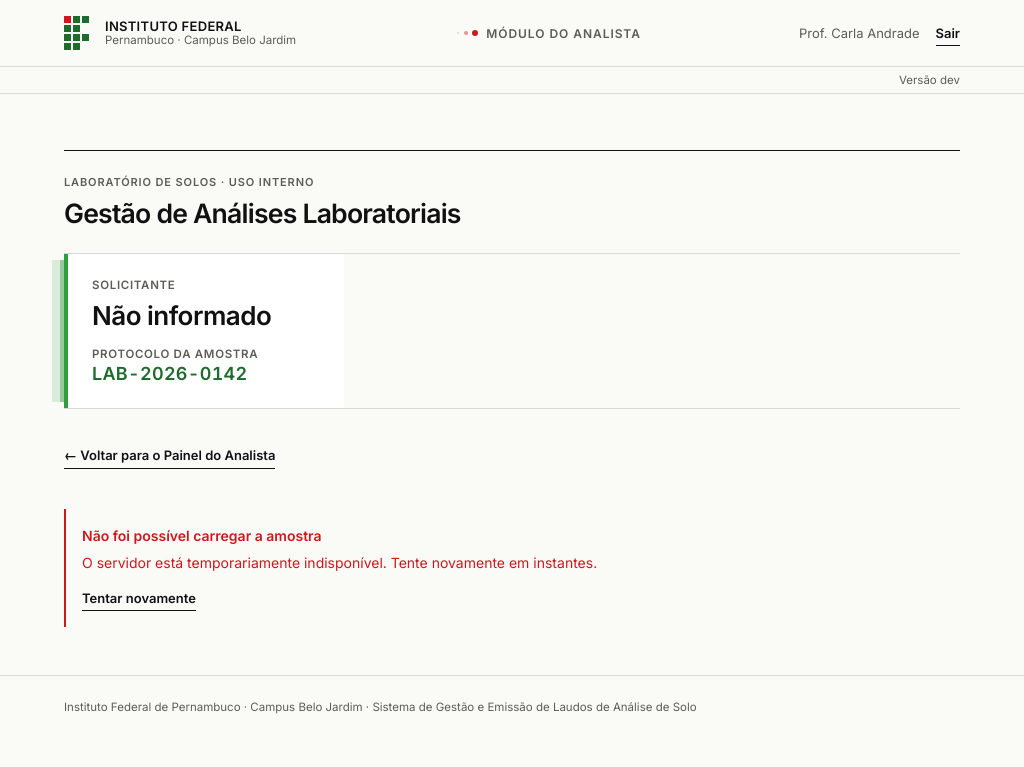
Test case: AnaliseLaudoPage › exibe estado 404 e permite tentar novamente quando ocorre erro de rede/servidor
Later steps or results of the test are not shown.
Expected: the text "Não foi possível carregar a amostra" is shown, [82,527,322,544]
Click the button "Tentar novamente".
click(139, 600)  # box [82,590,196,611]
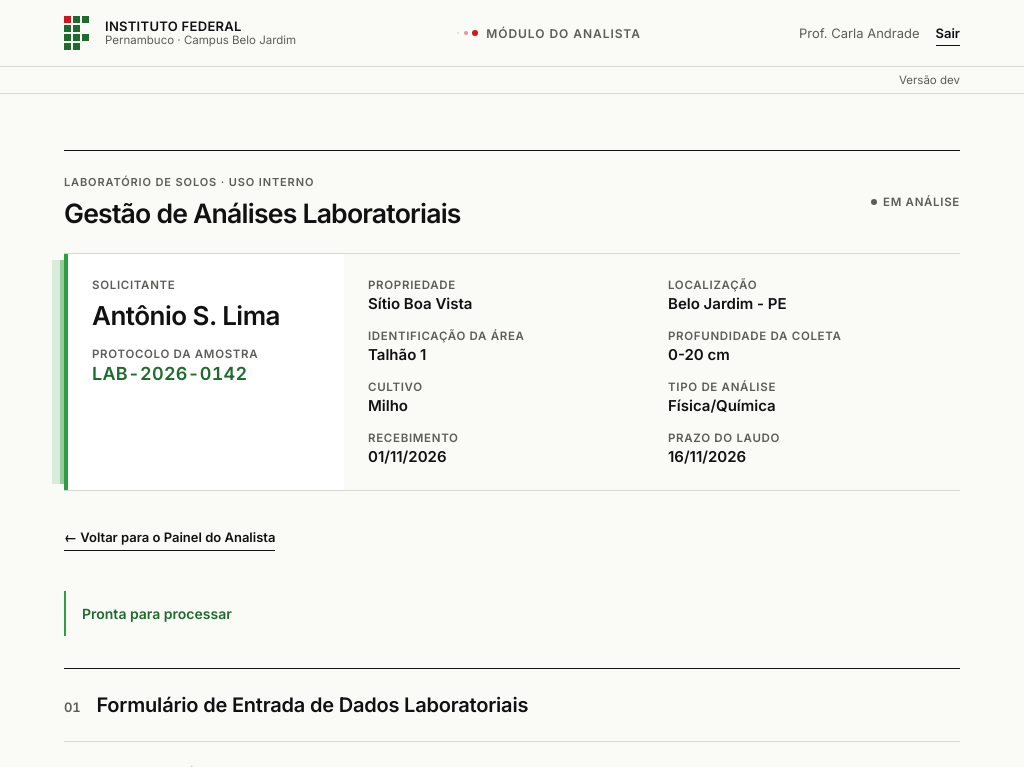
Expected: the heading "Formulário de Entrada de Dados Laboratoriais" is shown, [64,693,528,717]
